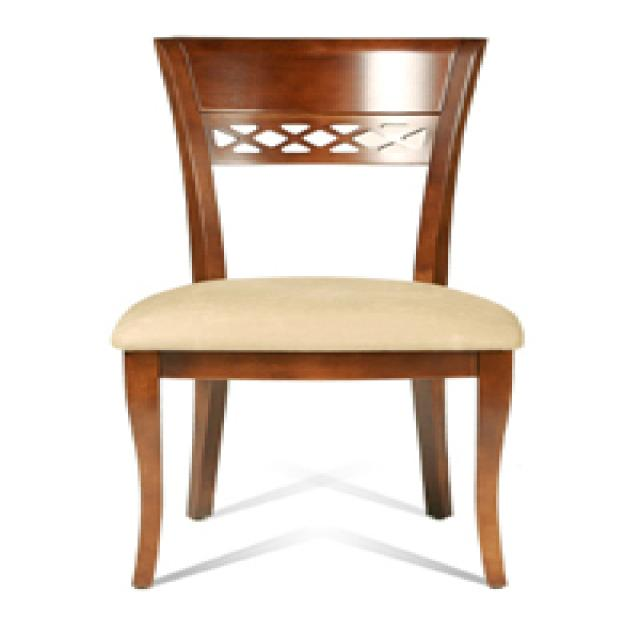chair: (109, 35, 525, 589)
